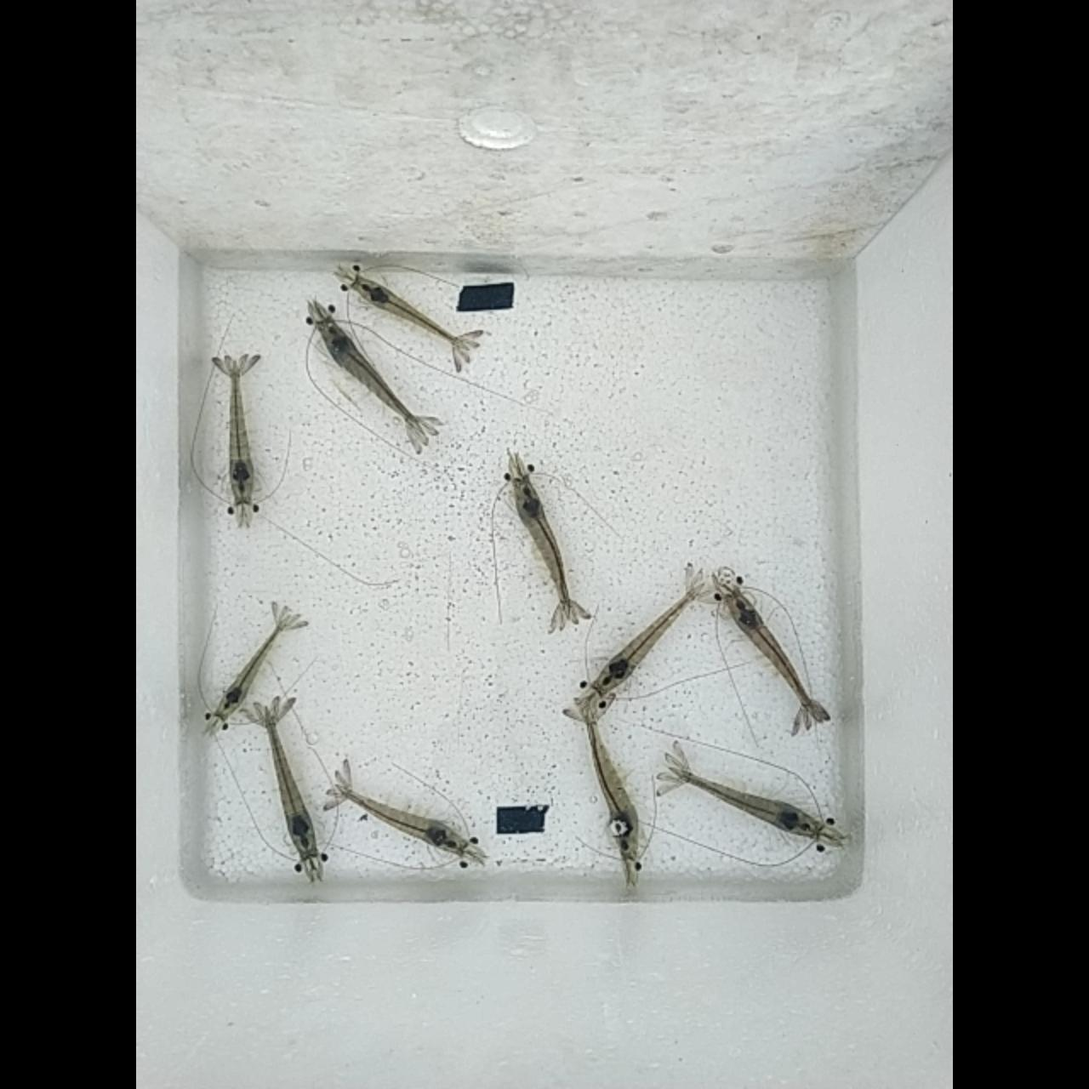box: (459, 282, 512, 311), (497, 807, 543, 834)
top_shrimp: (725, 590, 815, 715), (320, 322, 420, 427), (597, 585, 699, 687), (676, 769, 820, 835), (339, 786, 463, 851), (584, 708, 638, 854), (514, 480, 570, 616), (265, 710, 316, 856), (356, 279, 461, 345), (221, 618, 284, 713), (230, 362, 252, 500)
